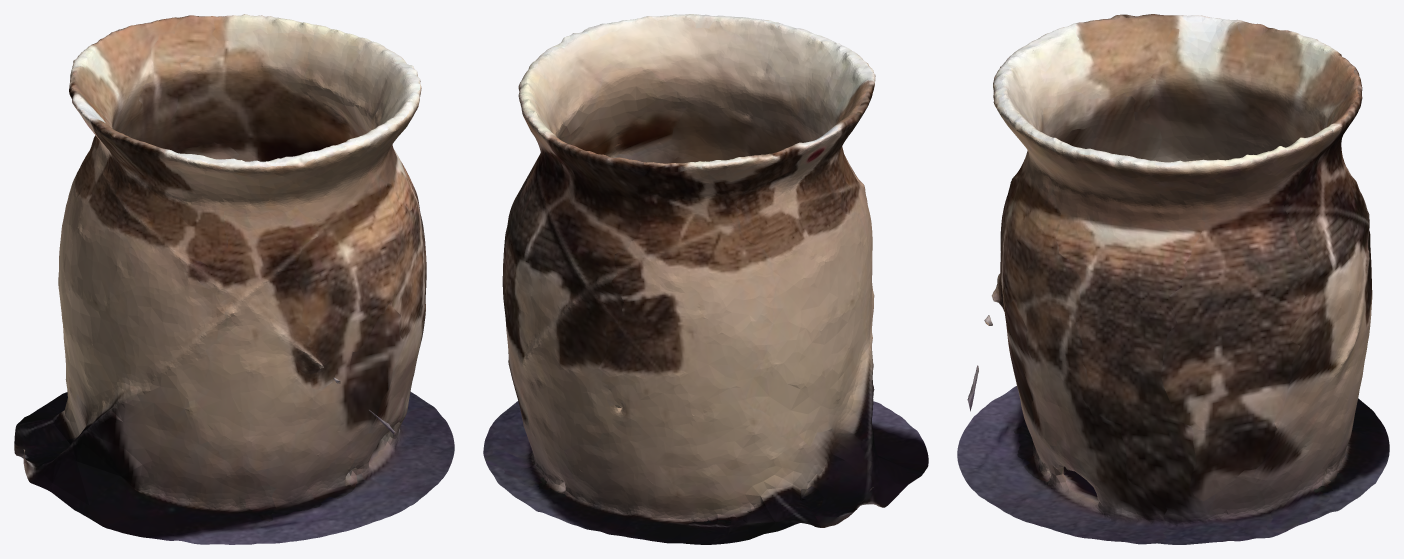
The model's file is kokaidotest2.glb.
3 renders of one model, left to right at view 1: azimuth 30°, elevation 25°; view 2: azimuth 150°, elevation 25°; view 3: azimuth 270°, elevation 25°, orthographic.
Visible parts, largest first — view 1: mesh; view 2: mesh; view 3: mesh.
Part boxes in pixels (x1,y1,x2,y2): mesh: (14, 14, 454, 544); mesh: (483, 14, 928, 544); mesh: (957, 14, 1389, 544).
Bounding box in the file's own units: 0.1634 × 0.1499 × 0.1562.
Materials: 1 (1 with a texture image).
